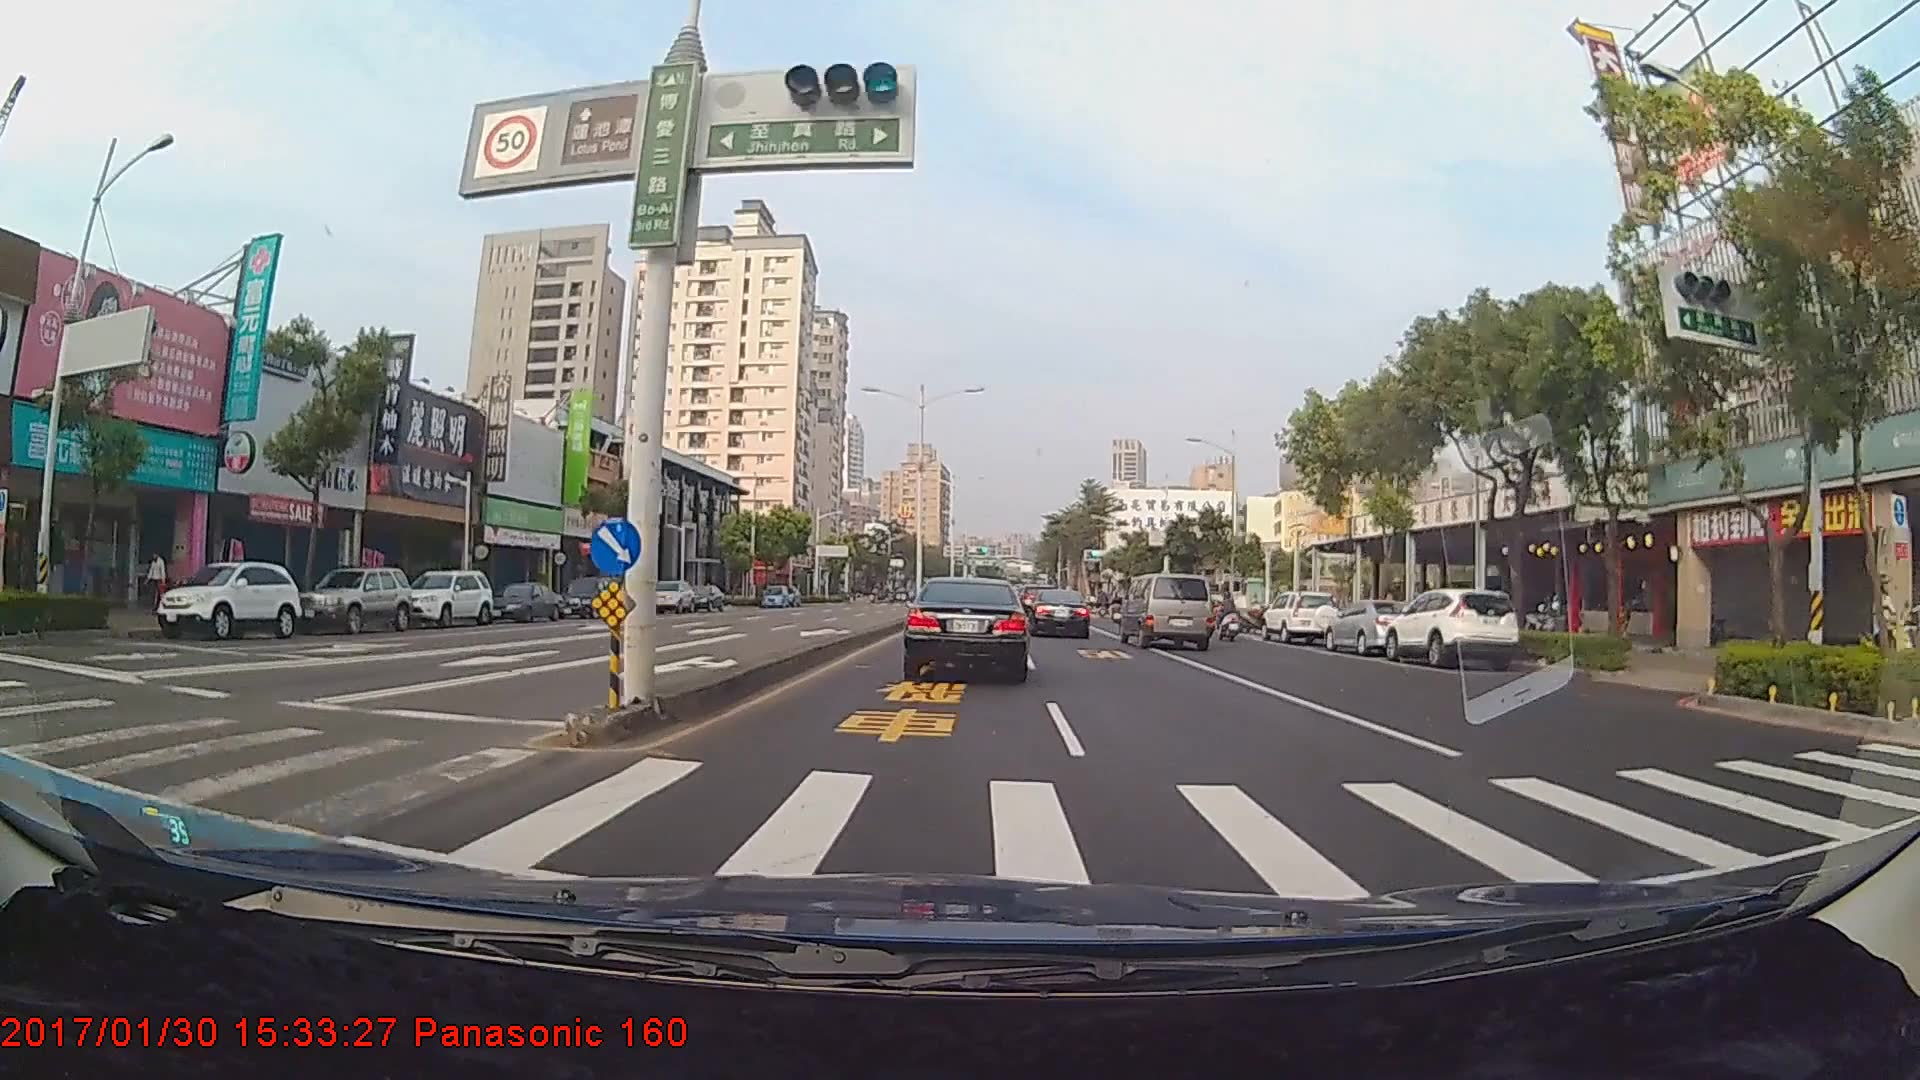pedestrian: (147, 553, 170, 618)
rider: (1211, 592, 1245, 642)
vehicle: (905, 576, 1027, 678), (1379, 585, 1522, 668), (153, 561, 299, 639), (297, 564, 413, 635), (1117, 572, 1214, 650), (1321, 597, 1422, 656), (400, 569, 495, 629), (1263, 590, 1338, 645), (1019, 585, 1091, 640), (480, 579, 563, 621), (557, 576, 620, 618), (648, 579, 697, 614), (685, 584, 726, 612), (760, 583, 790, 608)
